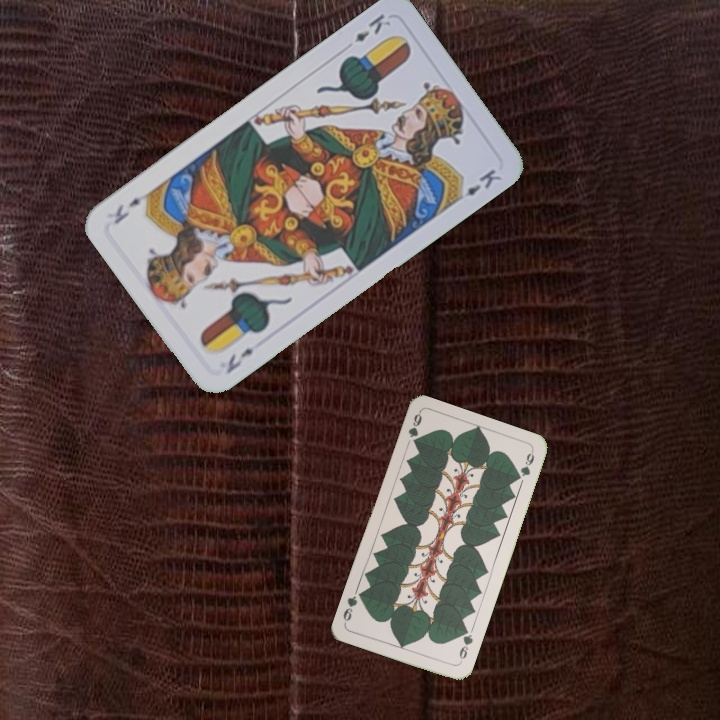EK: (350, 9, 393, 45), (222, 344, 257, 377)
G9: (455, 624, 476, 666), (404, 409, 424, 447)
